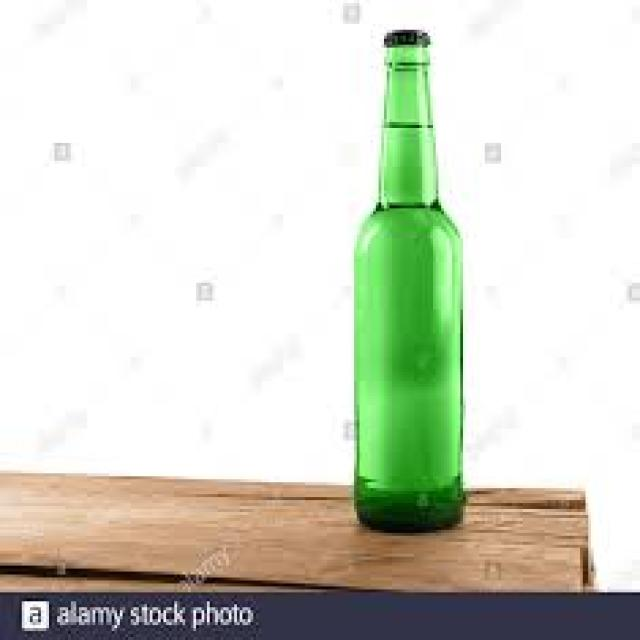Anorganik: (349, 42, 463, 533), (378, 24, 425, 39)
